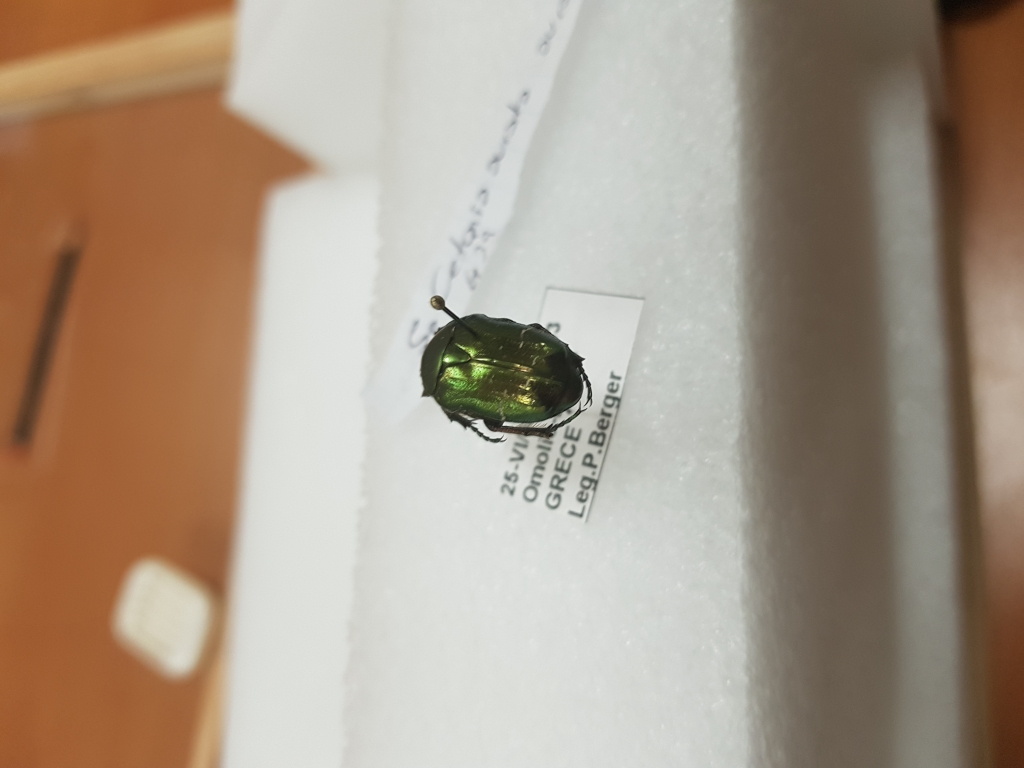Cetonia_aurata: (403, 315, 605, 441)
